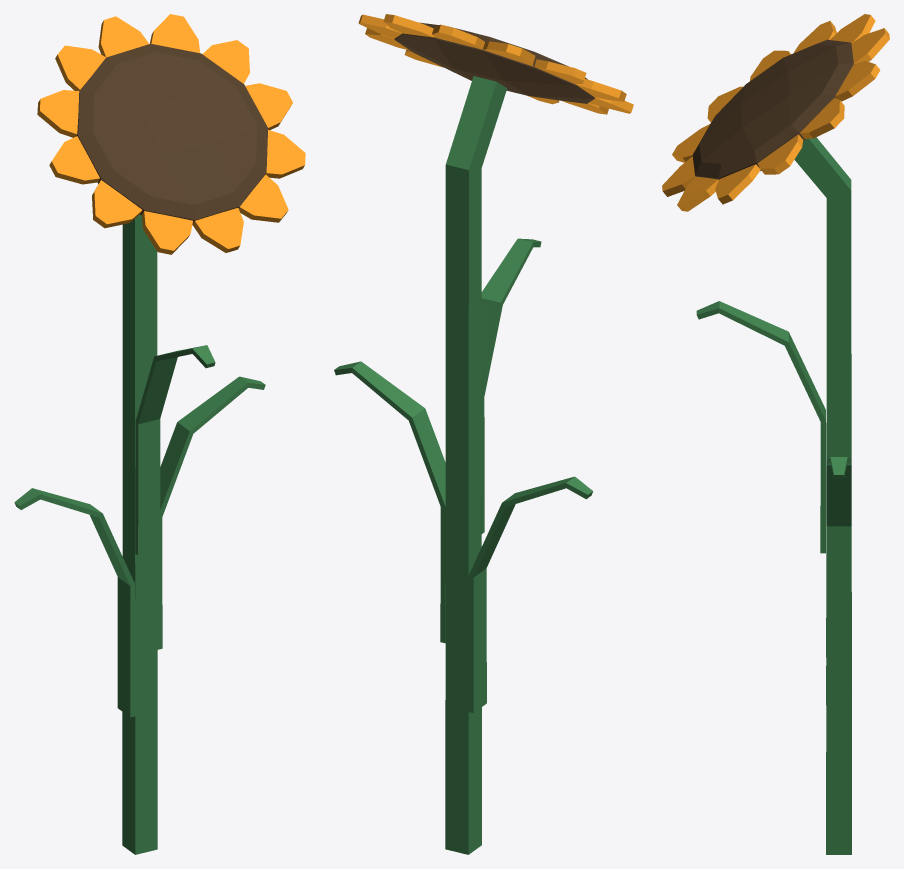
The model's file is SM_sunflower.glb.
3 views of the same model, side by side, from view 1: azimuth 30°, elevation 25°; view 2: azimuth 150°, elevation 25°; view 3: azimuth 270°, elevation 25° (orthographic). The views are drawn at different scales.
Visible parts, largest first — view 1: SM_sunflower; view 2: SM_sunflower; view 3: SM_sunflower.
Part boxes in pixels (x1,y1,x2,y2): SM_sunflower: [14, 14, 305, 854]; SM_sunflower: [334, 14, 633, 854]; SM_sunflower: [662, 14, 889, 854].
Bounding box in the file's own units: 0.6252 × 1.98 × 0.5004.
Materials: 1 (1 with a texture image).
